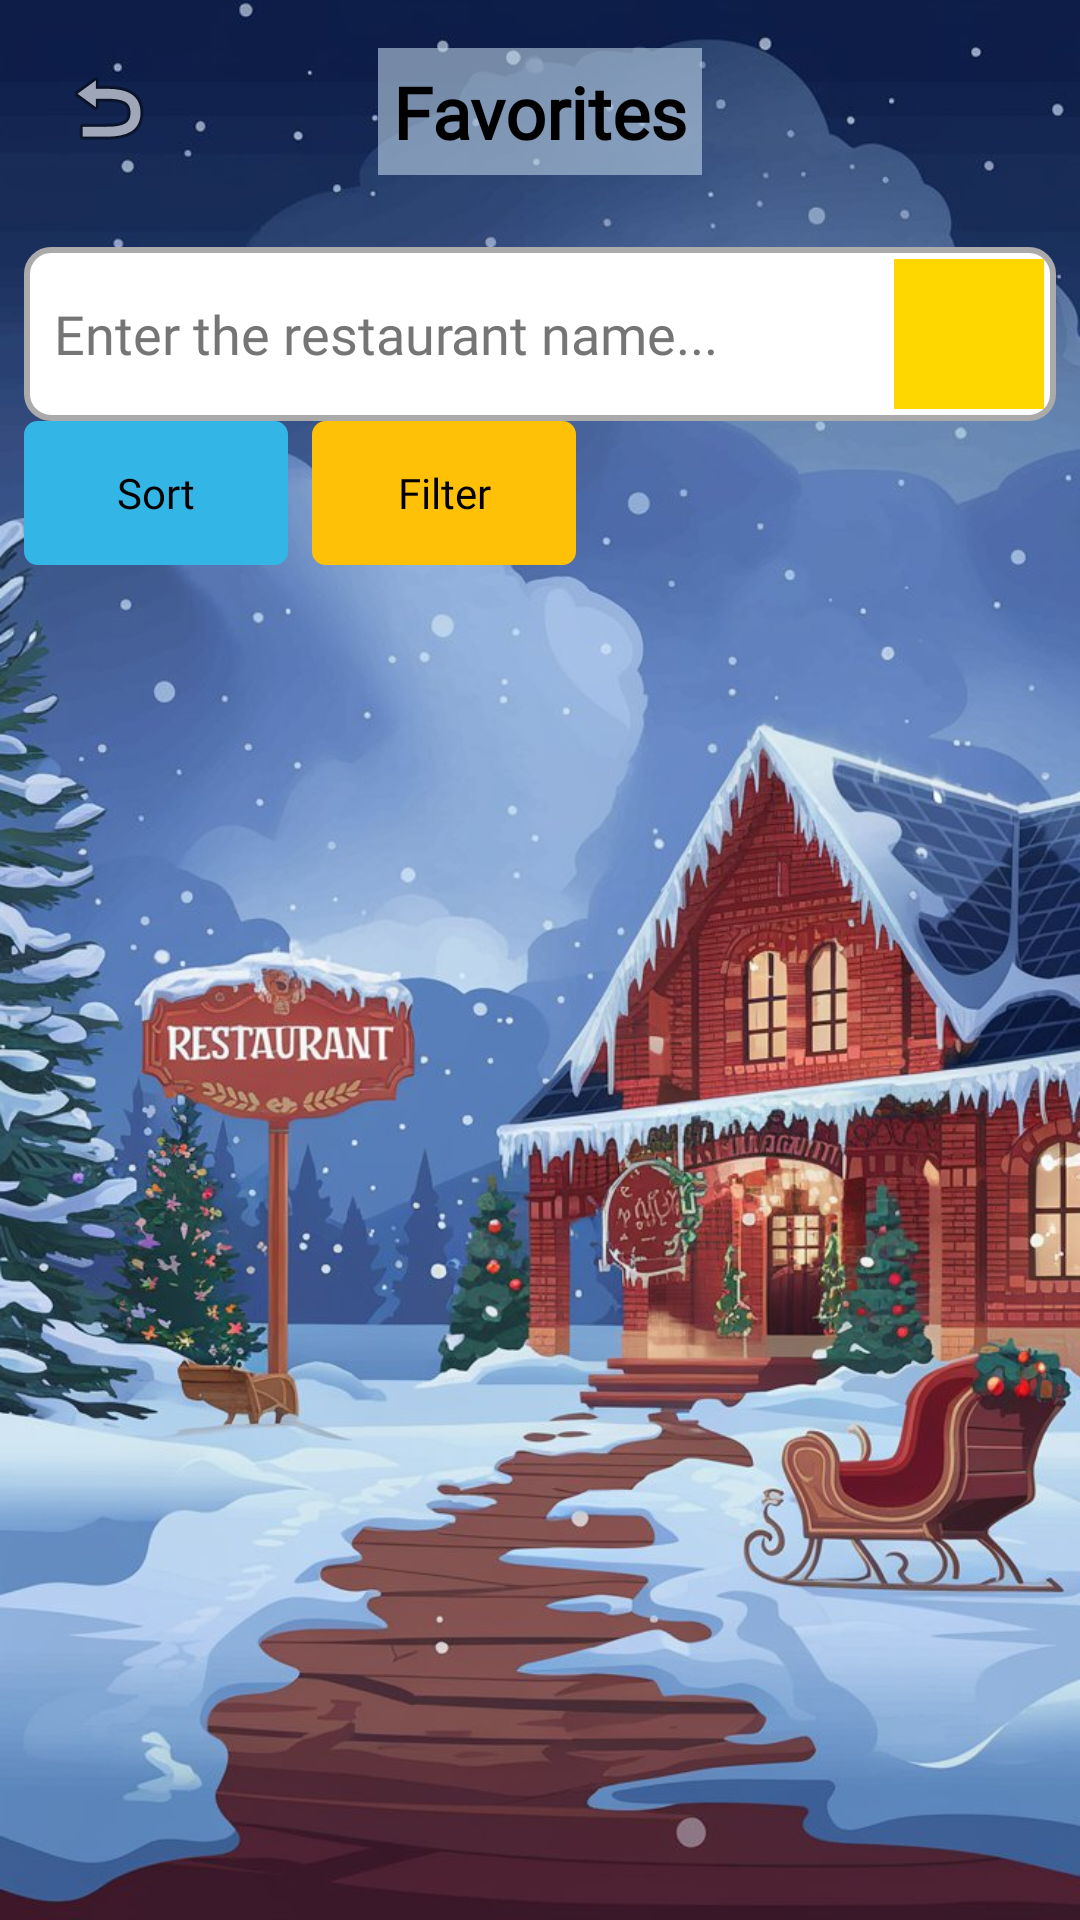

Point at icon controls on the screen. Image size 1080 x 1920, points as (x,y).
Back Button: (109,115)
